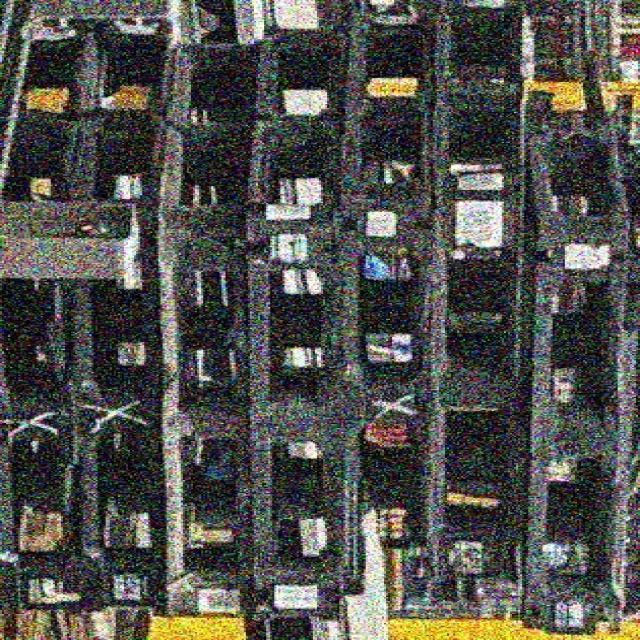igps: (516, 0, 640, 640), (424, 0, 544, 627), (77, 7, 199, 614), (244, 18, 363, 627), (162, 34, 278, 626), (0, 4, 100, 624), (346, 0, 428, 516)
